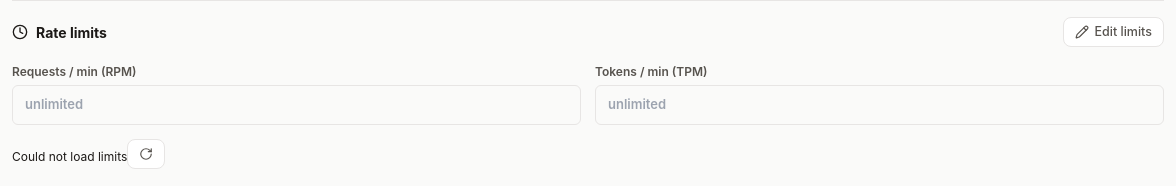
Scenario: does not save after a failed load and supports retry
Expected: the message reads "Could not load limits", top-left (12, 148), bottom-right (127, 164)
Expected: the button "Edit limits" is disabled, top-left (1063, 17), bottom-right (1164, 47)
Click the button named "Retry loading limits" at (146, 154), box top-left (127, 138), bottom-right (165, 168)
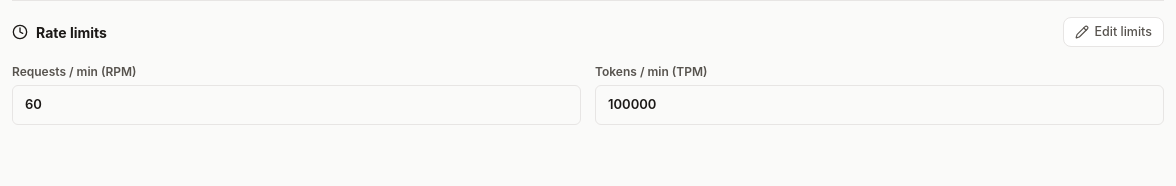
Now the number field labelled "Requests / min (RPM)" holds "60", box top-left (12, 85), bottom-right (581, 124)
